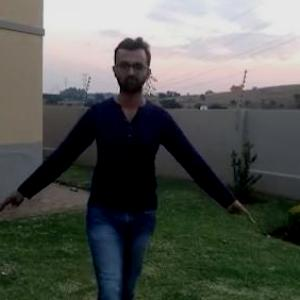land: (20, 45, 234, 299)
